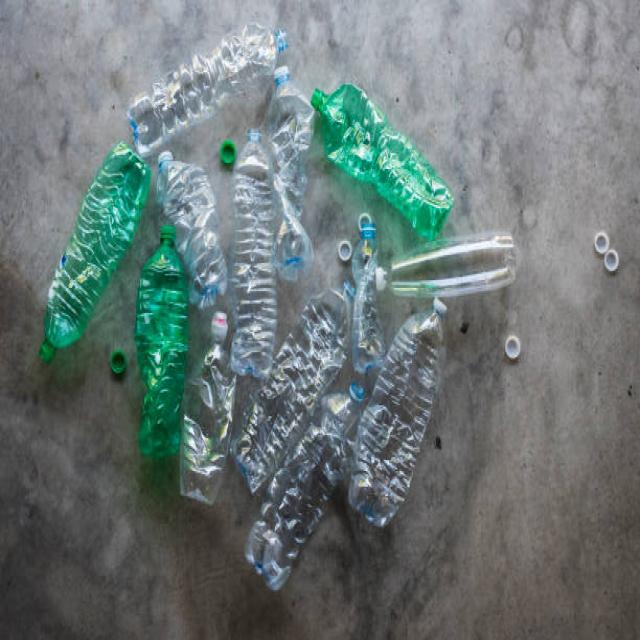plastic: (118, 6, 418, 516)
